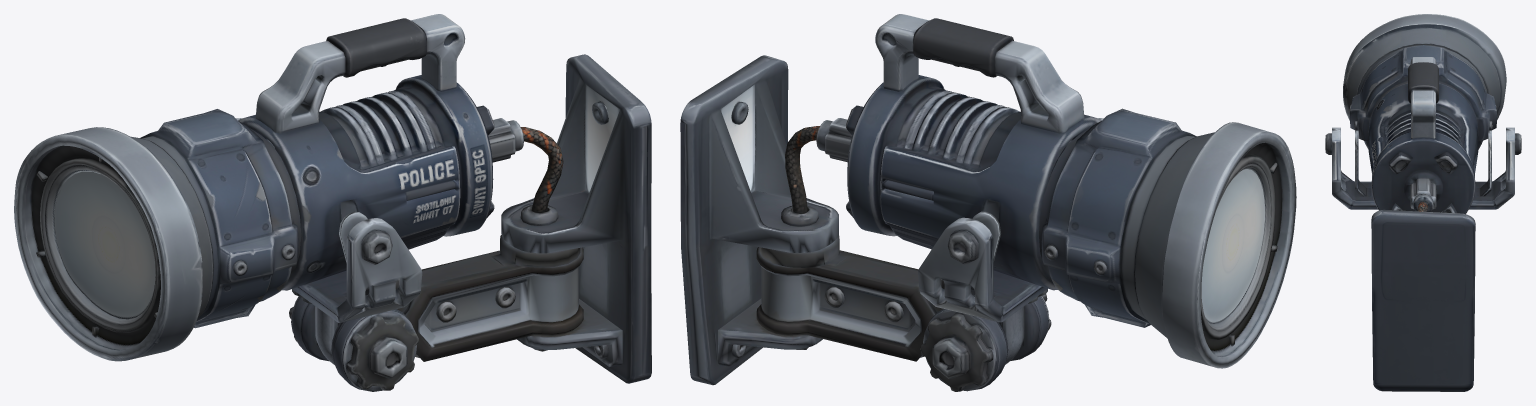
File: SM_PoliceSpotlight.fbx
3 renders of one model, left to right at view 1: azimuth 30°, elevation 25°; view 2: azimuth 150°, elevation 25°; view 3: azimuth 270°, elevation 25°, orthographic. The views are drawn at different scales.
Visible parts, largest first — view 1: tripo_824046c7_8c6e_4f50_b927_e3649614444d; view 2: tripo_824046c7_8c6e_4f50_b927_e3649614444d; view 3: tripo_824046c7_8c6e_4f50_b927_e3649614444d.
Part boxes in pixels (box(x1,y1,x2,y2)): tripo_824046c7_8c6e_4f50_b927_e3649614444d: box(14, 14, 651, 391); tripo_824046c7_8c6e_4f50_b927_e3649614444d: box(680, 14, 1296, 391); tripo_824046c7_8c6e_4f50_b927_e3649614444d: box(1325, 14, 1521, 391).
Size of the model in its own units: 0.9995 by 0.6782 by 0.4927.
Materials: 1 (1 with a texture image).
